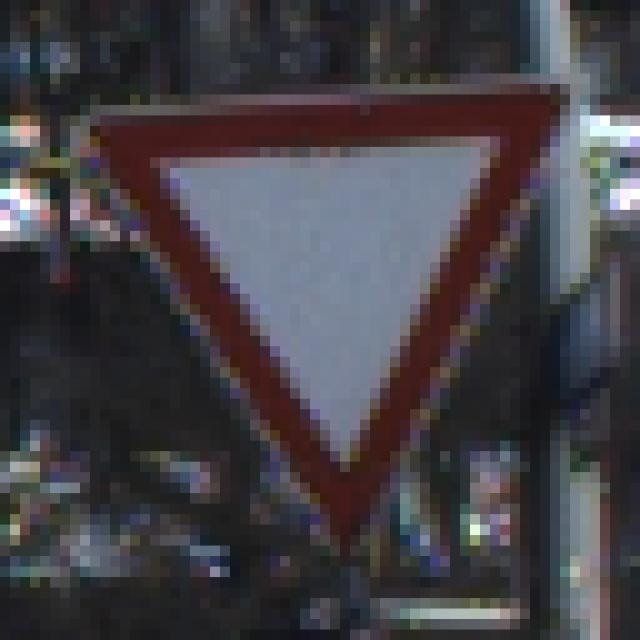Give Way: (51, 54, 591, 589)
